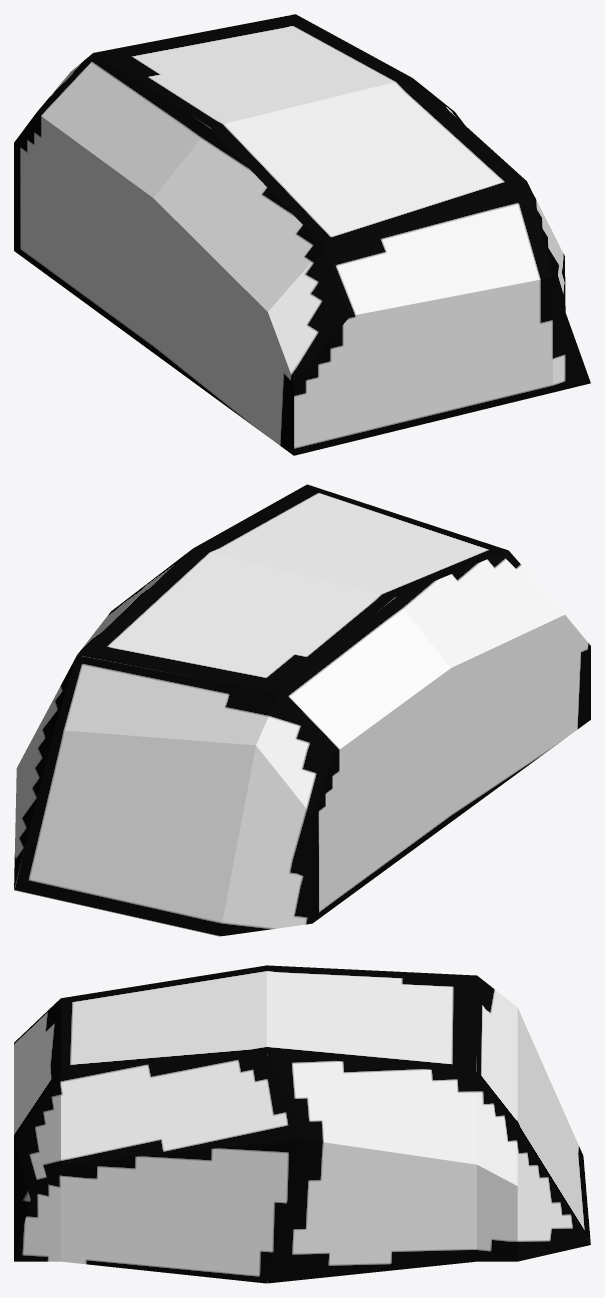
Rendered from BenchRock.fbx.
3 views of the same model, one above another, from view 1: azimuth 30°, elevation 25°; view 2: azimuth 150°, elevation 25°; view 3: azimuth 270°, elevation 25° (orthographic). The views are drawn at different scales.
Parts seen in each view (by area): view 1: Cube; view 2: Cube; view 3: Cube.
Part boxes in pixels (box(x1,y1,x2,y2)): Cube: box(14, 14, 590, 455); Cube: box(14, 484, 590, 936); Cube: box(14, 965, 590, 1283).
Size of the model in its own units: 343 by 200 by 549.
1 material, 1 textured.
